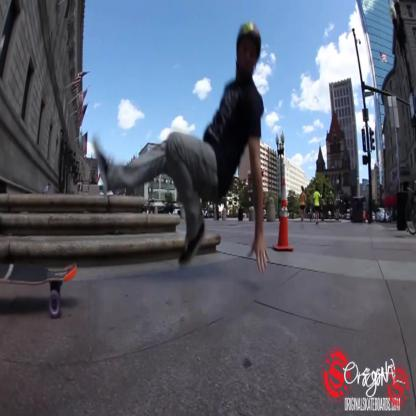Fall_Down: (90, 22, 272, 274)
